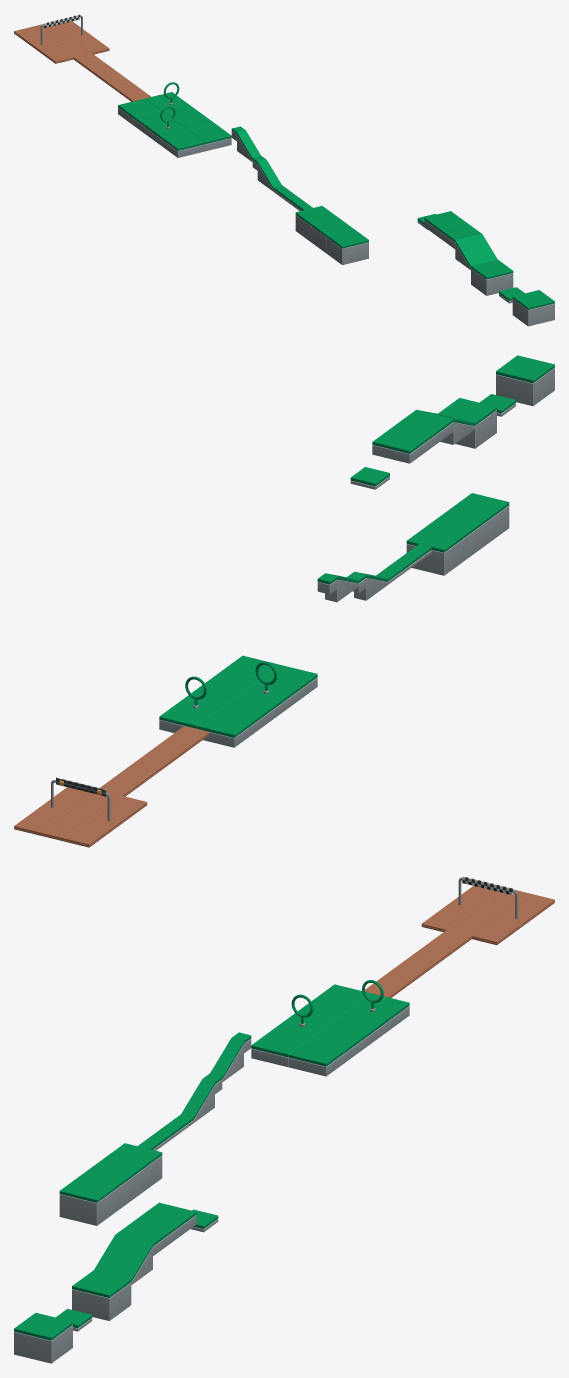
Rendered from level3.glb.
3 views of the same model, one above another, from view 1: azimuth 30°, elevation 25°; view 2: azimuth 150°, elevation 25°; view 3: azimuth 330°, elevation 25° (orthographic). The views are drawn at different scales.
Visible parts, largest first — view 1: Start_3, platform_6x6x4_green.003, platform_6x6x4_green.002, platform_slope_6x6x4_green.001, platform_6x6x2_green.003, platform_6x6x4_green.004, platform_6x6x4_green.005, platform_6x6x2_green.004, platform_6x6x2_green.001, platform_6x6x2_green.010, platform_6x6x2_green.002, platform_6x6x2_green.006 (+5 smaller); view 2: Start_3, platform_6x6x4_green.005, platform_6x6x4_green.002, platform_6x6x2_green.002, platform_6x6x2_green.010, platform_6x6x4_green.003, platform_6x6x4_green.004, platform_6x6x2_green.009, platform_6x6x2_green.001, platform_6x6x2_green.003, platform_6x6x2_green.006, platform_6x6x2_green.007 (+4 smaller); view 3: platform_6x6x4_green.003, Start_3, platform_6x6x4_green.002, platform_slope_6x6x4_green.001, platform_6x6x2_green.004, platform_6x6x4_green.004, platform_6x6x4_green.005, platform_6x6x2_green.003, platform_6x6x2_green.002, platform_6x6x2_green.001, platform_6x6x2_green.005, platform_6x6x2_green.009 (+6 smaller).
Part boxes in pixels (x1,y1,x2,y2): Start_3: (512, 290, 554, 326); platform_6x6x4_green.003: (326, 228, 368, 264); platform_6x6x4_green.002: (471, 259, 513, 295); platform_slope_6x6x4_green.001: (455, 234, 497, 269); platform_6x6x2_green.003: (162, 131, 204, 157); platform_6x6x4_green.004: (311, 217, 352, 253); platform_6x6x4_green.005: (295, 206, 337, 241); platform_6x6x2_green.004: (190, 124, 231, 151); platform_6x6x2_green.001: (439, 222, 481, 248); platform_6x6x2_green.010: (118, 98, 159, 125); platform_6x6x2_green.002: (424, 211, 466, 237); platform_6x6x2_green.006: (146, 120, 188, 146); Start_3: (496, 355, 554, 406); platform_6x6x4_green.005: (406, 525, 465, 575); platform_6x6x4_green.002: (438, 398, 496, 448); platform_6x6x2_green.002: (372, 426, 431, 463); platform_6x6x2_green.010: (197, 710, 255, 747); platform_6x6x4_green.003: (450, 493, 509, 543); platform_6x6x4_green.004: (429, 509, 487, 559); platform_6x6x2_green.009: (159, 701, 217, 732); platform_6x6x2_green.001: (394, 410, 453, 447); platform_6x6x2_green.003: (259, 665, 317, 702); platform_6x6x2_green.006: (237, 681, 295, 717); platform_6x6x2_green.007: (219, 696, 277, 731); platform_6x6x4_green.003: (59, 1175, 118, 1225); Start_3: (14, 1313, 72, 1363); platform_6x6x4_green.002: (72, 1270, 131, 1320); platform_slope_6x6x4_green.001: (94, 1234, 152, 1284); platform_6x6x2_green.004: (289, 1038, 347, 1076); platform_6x6x4_green.004: (82, 1159, 140, 1209); platform_6x6x4_green.005: (103, 1143, 162, 1193); platform_6x6x2_green.003: (251, 1029, 309, 1067); platform_6x6x2_green.002: (137, 1202, 196, 1239); platform_6x6x2_green.001: (116, 1218, 174, 1255); platform_6x6x2_green.005: (311, 1023, 369, 1060); platform_6x6x2_green.009: (351, 993, 409, 1030).
Bounding box in the file's own units: 26 × 10 × 163.
Materials: 10 (10 with a texture image).
